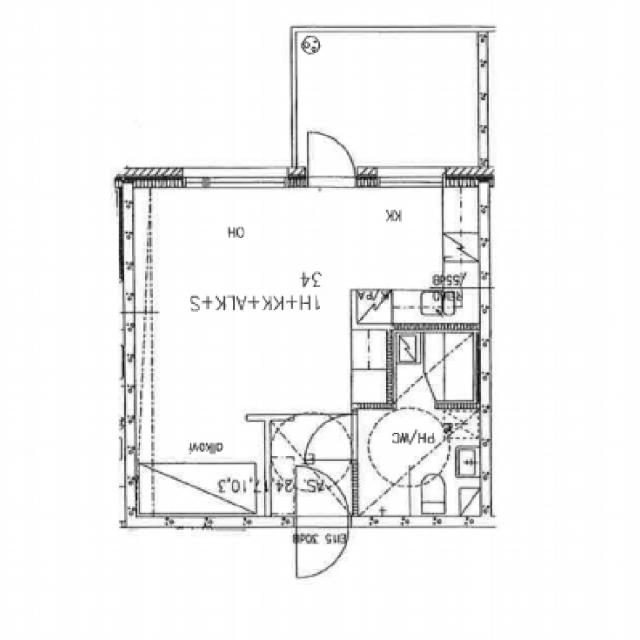door: (297, 516, 347, 578), (297, 467, 347, 528), (308, 123, 355, 187), (304, 414, 358, 460)
